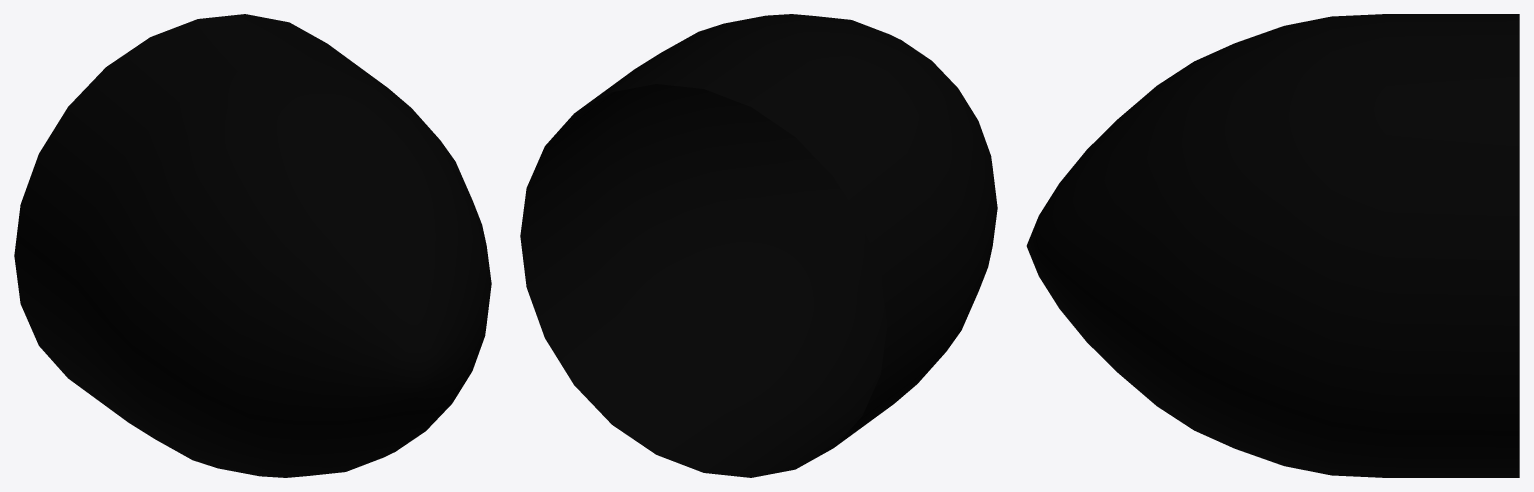
File: VFX_ChargeSonic.fbx
3 renders of one model, left to right at view 1: azimuth 30°, elevation 25°; view 2: azimuth 150°, elevation 25°; view 3: azimuth 270°, elevation 25°, orthographic. The views are drawn at different scales.
Parts seen in each view (by area): view 1: vfx_ChargeSonic; view 2: vfx_ChargeSonic; view 3: vfx_ChargeSonic.
Boxes of the visible parts, <box> form: vfx_ChargeSonic: <box>14,14,491,477</box>; vfx_ChargeSonic: <box>520,14,997,477</box>; vfx_ChargeSonic: <box>1026,14,1519,477</box>.
Bounding box in the file's own units: 805 × 805 × 852.
